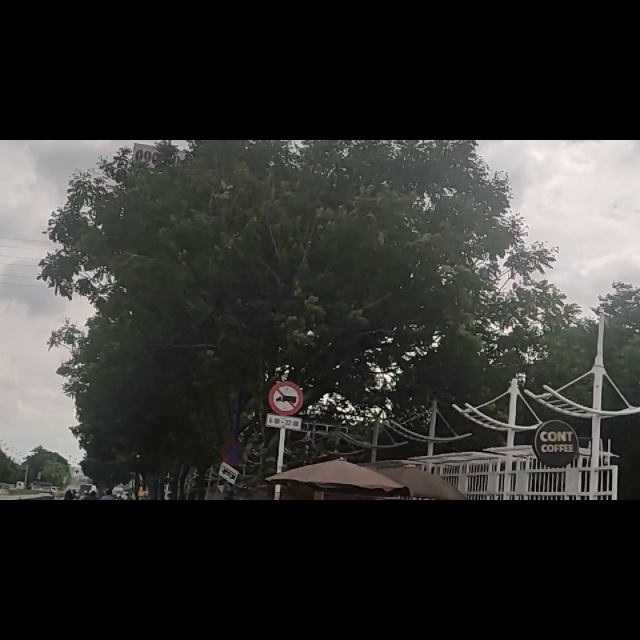bien_cam: (269, 431, 305, 517)
